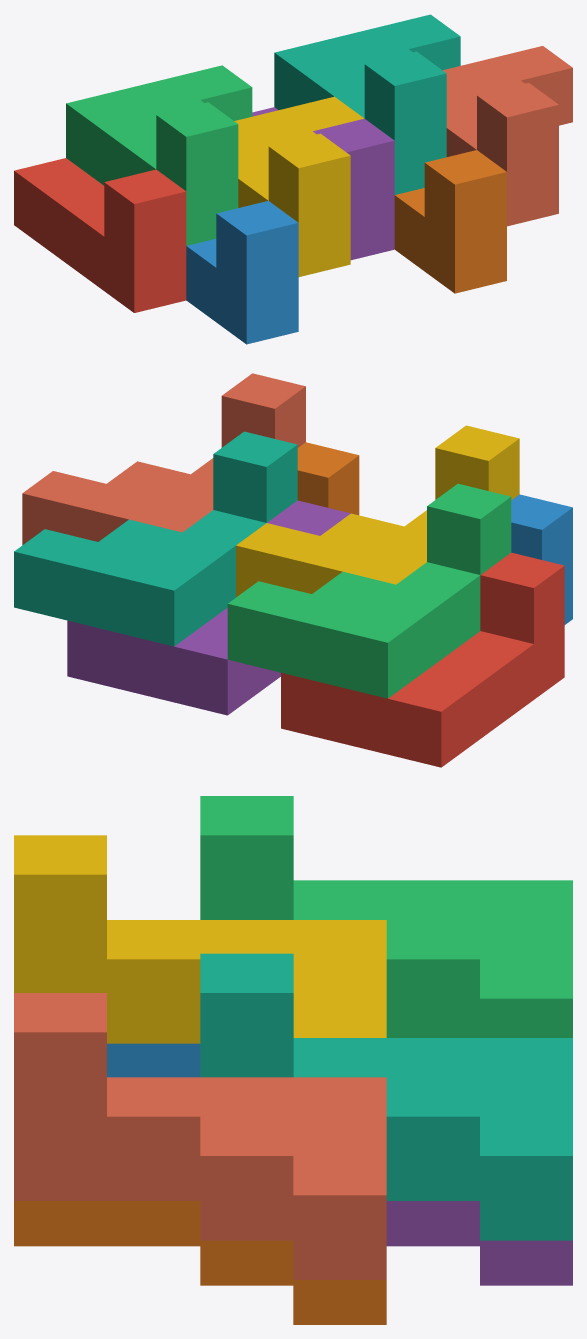
Rendered from tiling.obj.
3 views of the same model, one above another, from view 1: azimuth 30°, elevation 25°; view 2: azimuth 150°, elevation 25°; view 3: azimuth 270°, elevation 25° (orthographic). The views are drawn at different scales.
Visible parts, largest first — view 1: copy_1_domain_3, copy_1_domain_1, copy_1_domain_7, copy_1_domain_8, copy_1_domain_4, copy_1_domain_2, copy_1_domain_6, copy_1_domain_5; view 2: copy_1_domain_3, copy_1_domain_7, copy_1_domain_1, copy_1_domain_8, copy_1_domain_4, copy_1_domain_5, copy_1_domain_2, copy_1_domain_6; view 3: copy_1_domain_8, copy_1_domain_7, copy_1_domain_3, copy_1_domain_4, copy_1_domain_6, copy_1_domain_5, copy_1_domain_2.
Boxes of the visible parts, <box> form: copy_1_domain_3: <box>66,65,252,245</box>; copy_1_domain_1: <box>14,158,186,312</box>; copy_1_domain_7: <box>274,14,460,194</box>; copy_1_domain_8: <box>443,46,572,226</box>; copy_1_domain_4: <box>234,96,363,276</box>; copy_1_domain_2: <box>186,201,298,344</box>; copy_1_domain_6: <box>394,150,506,293</box>; copy_1_domain_5: <box>252,107,394,260</box>; copy_1_domain_3: <box>227,483,511,698</box>; copy_1_domain_7: <box>14,431,297,646</box>; copy_1_domain_1: <box>281,552,564,767</box>; copy_1_domain_8: <box>22,373,305,544</box>; copy_1_domain_4: <box>236,425,519,597</box>; copy_1_domain_5: <box>67,500,350,715</box>; copy_1_domain_2: <box>511,494,572,624</box>; copy_1_domain_6: <box>297,442,359,515</box>; copy_1_domain_8: <box>14,993,386,1279</box>; copy_1_domain_7: <box>200,953,572,1240</box>; copy_1_domain_3: <box>200,796,572,1037</box>; copy_1_domain_4: <box>14,835,386,1043</box>; copy_1_domain_6: <box>14,1201,386,1324</box>; copy_1_domain_5: <box>386,1201,572,1285</box>; copy_1_domain_2: <box>107,1043,200,1077</box>.
Size of the model in its own units: 9 by 3 by 6.
